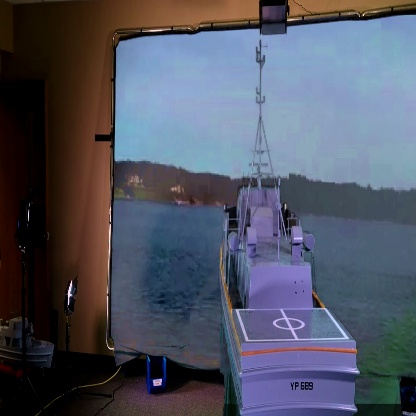YP689: (219, 52, 362, 416)
